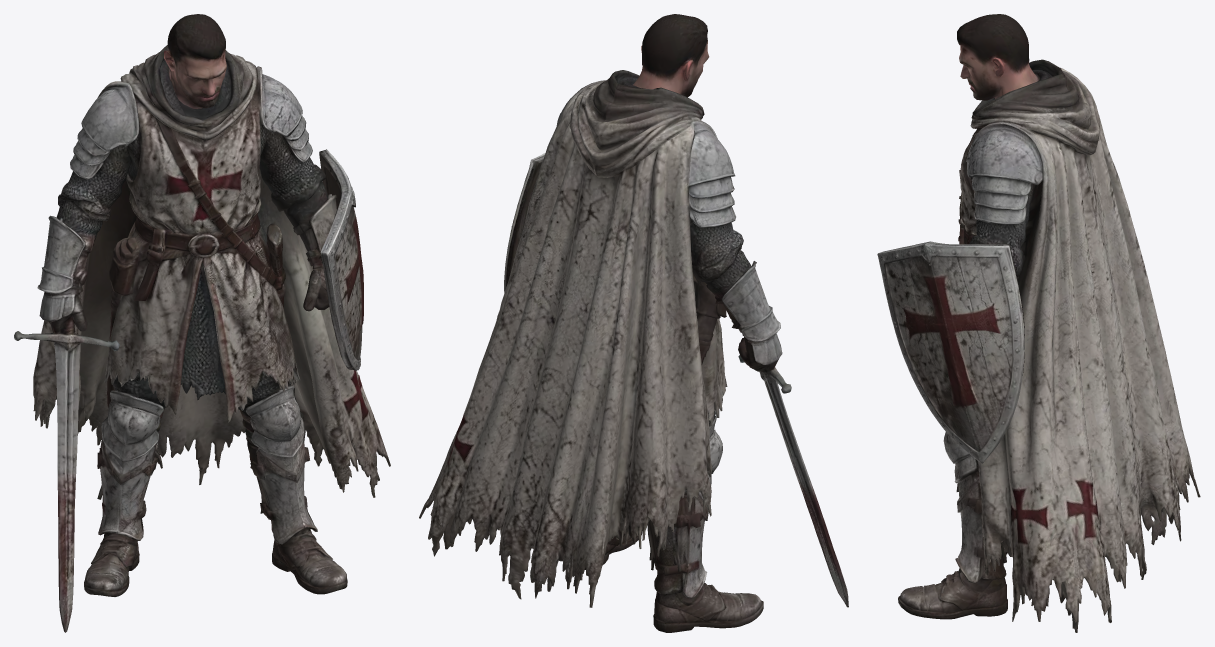
File: reshala-knight.glb
The picture shows the model from 3 angles, left to right: view 1: azimuth 30°, elevation 25°; view 2: azimuth 150°, elevation 25°; view 3: azimuth 270°, elevation 25°; orthographic projection. The views are drawn at different scales.
Visible parts, largest first — view 1: tripo_node_e09680db-a2f2-4d66-bc3c-ffa00362fb06; view 2: tripo_node_e09680db-a2f2-4d66-bc3c-ffa00362fb06; view 3: tripo_node_e09680db-a2f2-4d66-bc3c-ffa00362fb06.
Part boxes in pixels (box(x1,y1,x2,y2)): tripo_node_e09680db-a2f2-4d66-bc3c-ffa00362fb06: box(14, 14, 390, 632); tripo_node_e09680db-a2f2-4d66-bc3c-ffa00362fb06: box(419, 14, 848, 632); tripo_node_e09680db-a2f2-4d66-bc3c-ffa00362fb06: box(877, 14, 1200, 632).
Size of the model in its own units: 0.6687 by 0.9787 by 0.5204.
1 material, 1 textured.
